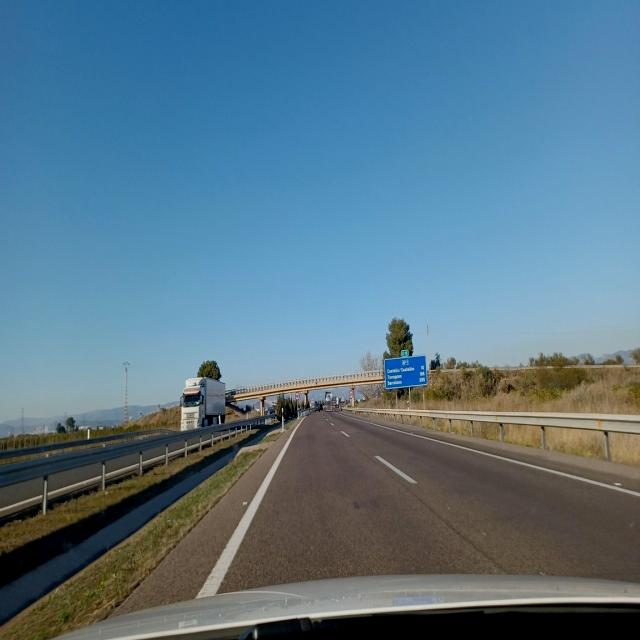car: (314, 403, 320, 413)
